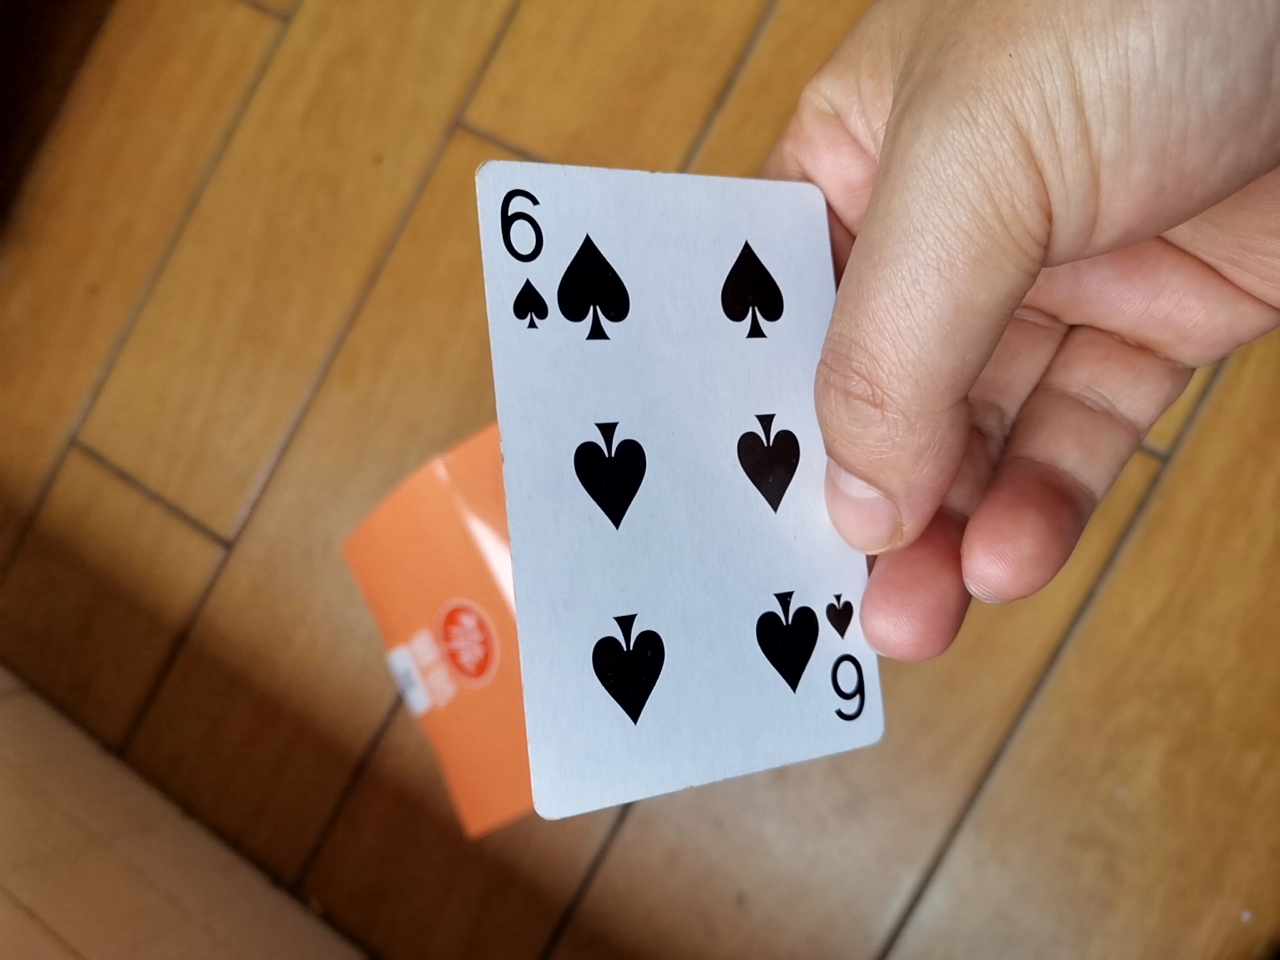ht 6: (456, 163, 860, 840)
